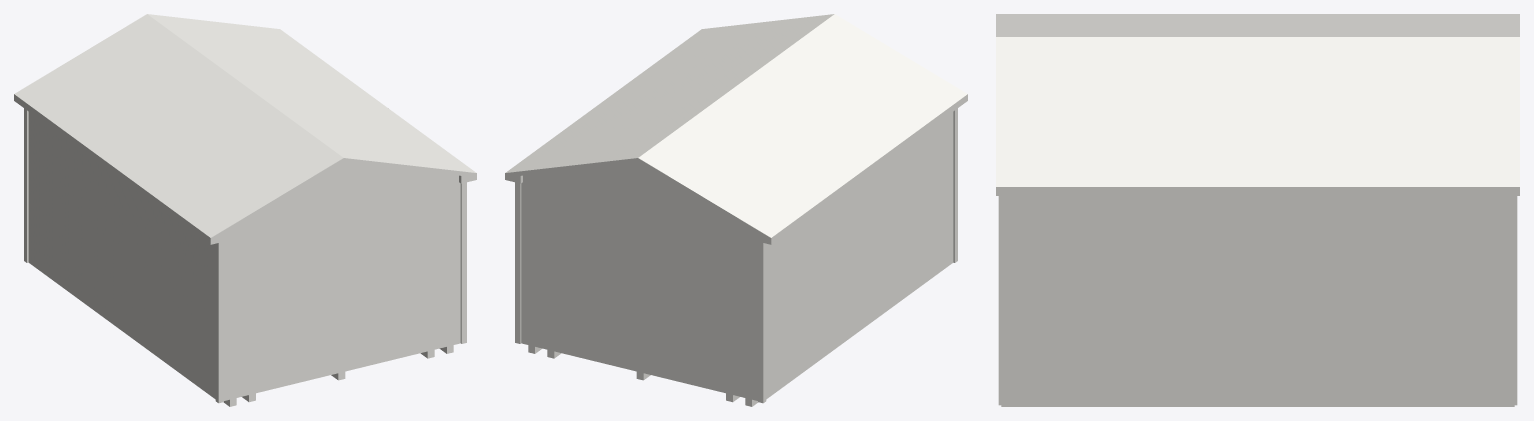
File: 8 wide A-frame_7ft_12x16.obj
3 views of the same model, side by side, from view 1: azimuth 30°, elevation 25°; view 2: azimuth 150°, elevation 25°; view 3: azimuth 270°, elevation 25° (orthographic). The views are drawn at different scales.
Visible parts, largest first — view 1: Shed, Roof, Sides, Trim, Floor; view 2: Shed, Roof, Sides, Trim, Floor; view 3: Shed, Roof, Sides, Trim, Floor.
Part boxes in pixels (x1,y1,x2,y2): Shed: (28, 112, 460, 400); Roof: (14, 14, 476, 237); Sides: (14, 94, 476, 244); Trim: (24, 108, 466, 403); Floor: (224, 345, 453, 406); Shed: (521, 112, 953, 400); Roof: (505, 14, 967, 237); Sides: (505, 94, 967, 244); Trim: (515, 108, 957, 403); Floor: (528, 345, 757, 406); Shed: (1006, 196, 1509, 403); Roof: (996, 14, 1519, 186); Sides: (996, 187, 1519, 195); Trim: (998, 196, 1517, 405); Floor: (1001, 404, 1514, 406).
Size of the model in its own units: 3.89 by 3.12 by 4.98.
